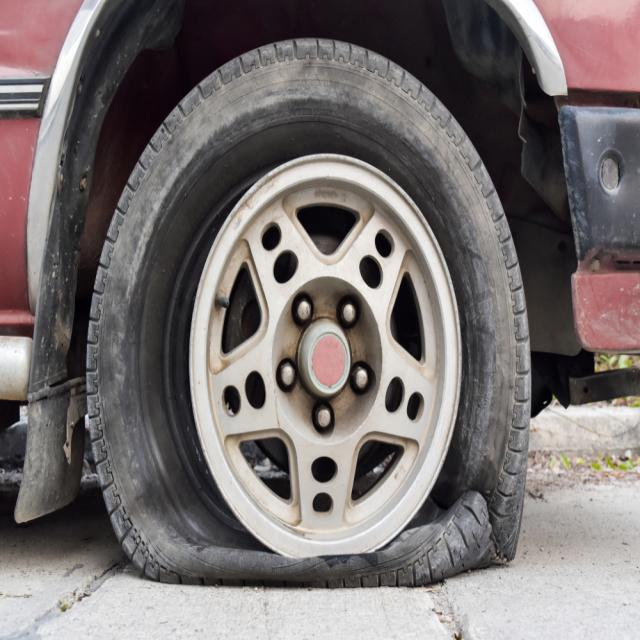tire flat: (85, 33, 534, 588)
